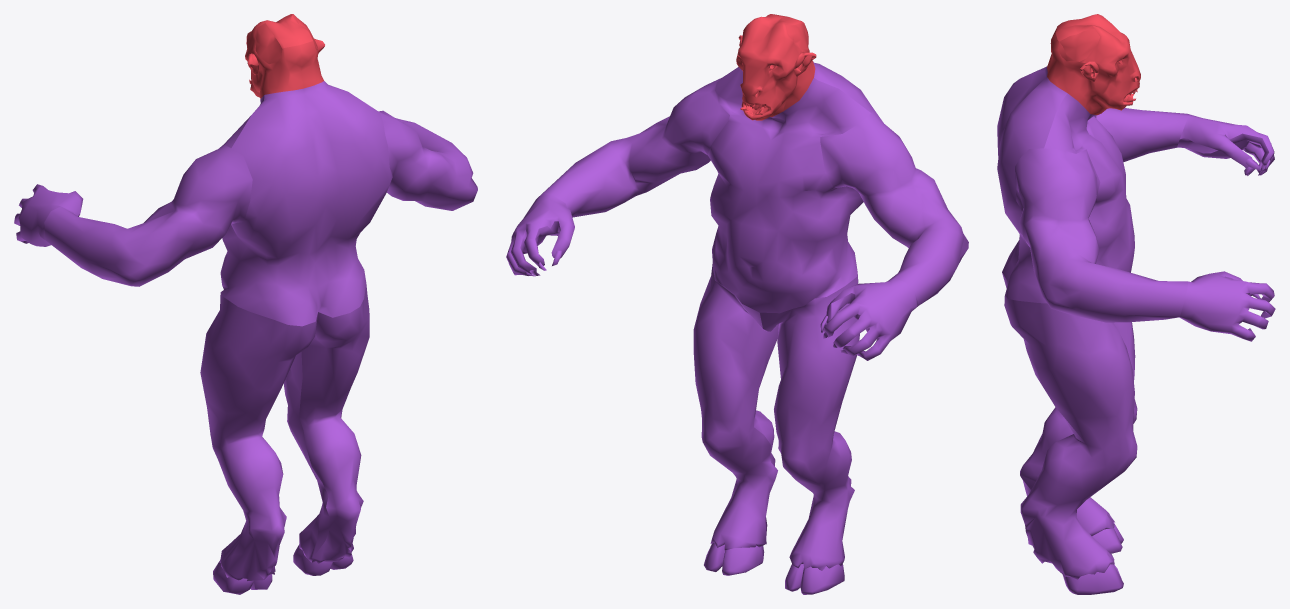
Rendered from dummy_pusfume.fbx.
3 renders of one model, left to right at view 1: azimuth 30°, elevation 25°; view 2: azimuth 150°, elevation 25°; view 3: azimuth 270°, elevation 25°, orthographic.
Parts seen in each view (by area): view 1: g_body_LOD1; view 2: g_body_LOD1; view 3: g_body_LOD1.
Boxes of the visible parts, x1,y1,x2,y2 form: g_body_LOD1: (14,14,477,594); g_body_LOD1: (506,14,968,594); g_body_LOD1: (997,14,1275,594).
Bounding box in the file's own units: 124 × 172 × 79.15.
